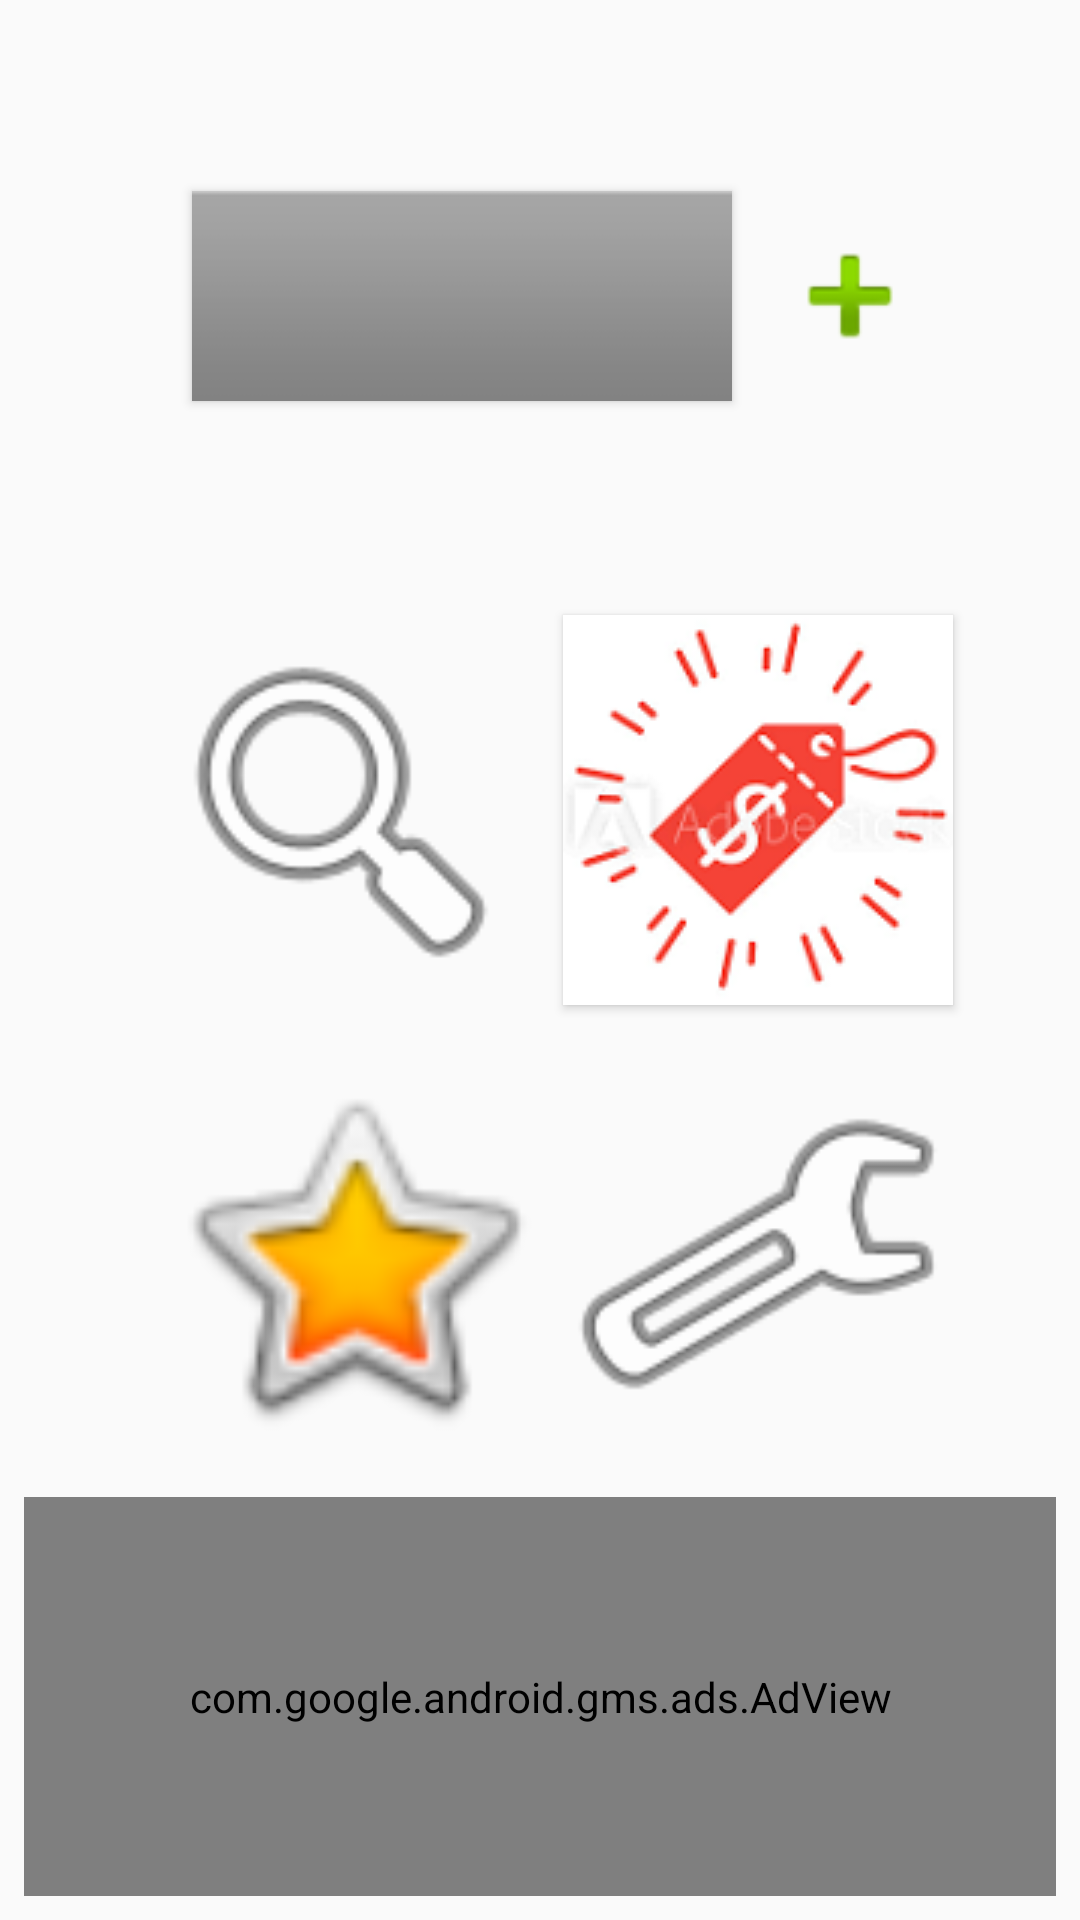

Where icons sit on this 1080w x 1920h app screen, as rect(x1, y1, x2, y2):
manage: rect(582, 1119, 934, 1389)
search: rect(196, 667, 486, 957)
